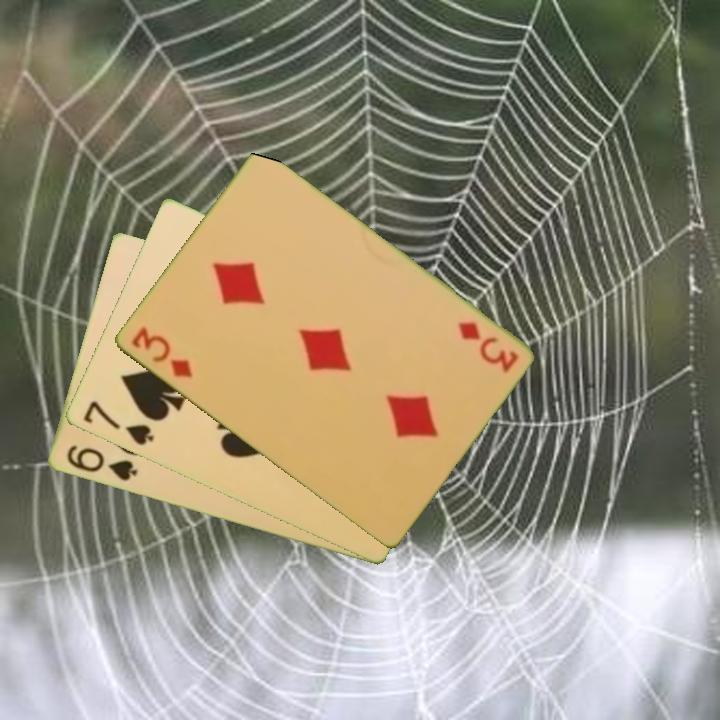3d: (127, 323, 195, 381), (454, 318, 521, 375)
6s: (62, 442, 140, 484)
7s: (79, 397, 157, 449)
